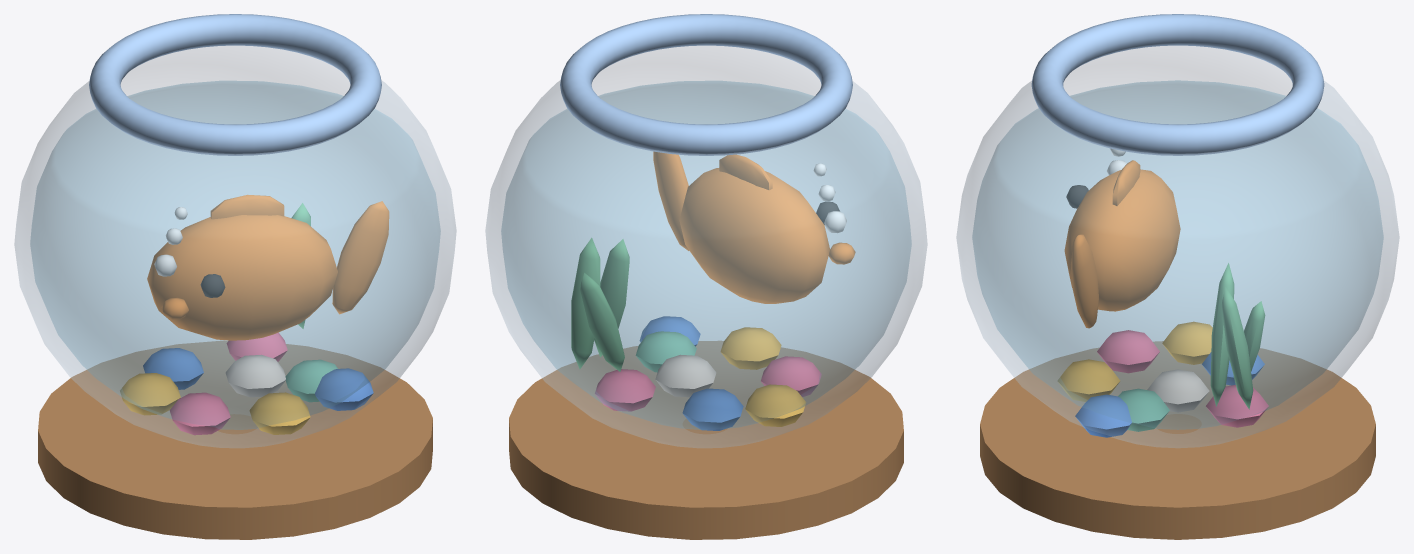
The model's file is album_goldfischglas.glb.
The picture shows the model from 3 angles, left to right: view 1: azimuth 30°, elevation 25°; view 2: azimuth 150°, elevation 25°; view 3: azimuth 270°, elevation 25°; orthographic projection.
Parts seen in each view (by area): view 1: album_goldfischglas; view 2: album_goldfischglas; view 3: album_goldfischglas.
Part boxes in pixels (bbox=[...]): album_goldfischglas: bbox=[14, 14, 456, 539]; album_goldfischglas: bbox=[485, 14, 927, 539]; album_goldfischglas: bbox=[956, 14, 1399, 539].
Size of the model in its own units: 0.448 by 0.43 by 0.448.
